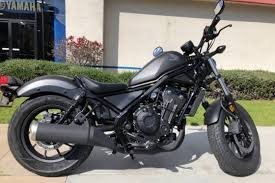motor: (6, 20, 262, 177)
